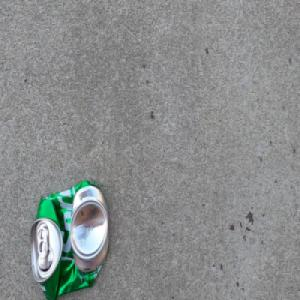SodaCan: (29, 178, 109, 299)
